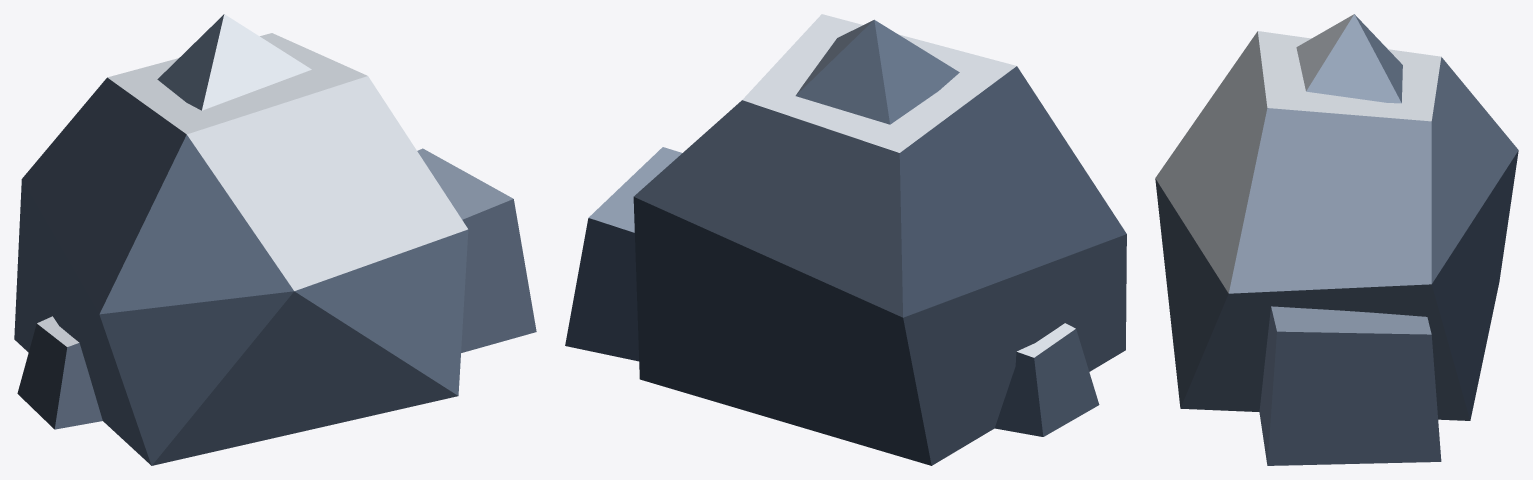
Rendered from stone.fbx.
The picture shows the model from 3 angles, left to right: view 1: azimuth 30°, elevation 25°; view 2: azimuth 150°, elevation 25°; view 3: azimuth 270°, elevation 25°; orthographic projection. The views are drawn at different scales.
Visible parts, largest first — view 1: MainBoulder, SideSlab, TopCrest, CornerPebble; view 2: MainBoulder, SideSlab, TopCrest, CornerPebble; view 3: MainBoulder, SideSlab, TopCrest.
Part boxes in pixels (x1,y1,x2,y2): MainBoulder: (14, 33, 468, 465); SideSlab: (417, 148, 536, 352); TopCrest: (157, 14, 311, 110); CornerPebble: (17, 316, 102, 429); MainBoulder: (633, 14, 1126, 465); SideSlab: (565, 147, 682, 361); TopCrest: (795, 19, 959, 124); CornerPebble: (994, 323, 1099, 436); MainBoulder: (1155, 31, 1518, 420); SideSlab: (1259, 306, 1441, 465); TopCrest: (1296, 14, 1402, 103).
Size of the model in its own units: 260 by 188 by 188.
